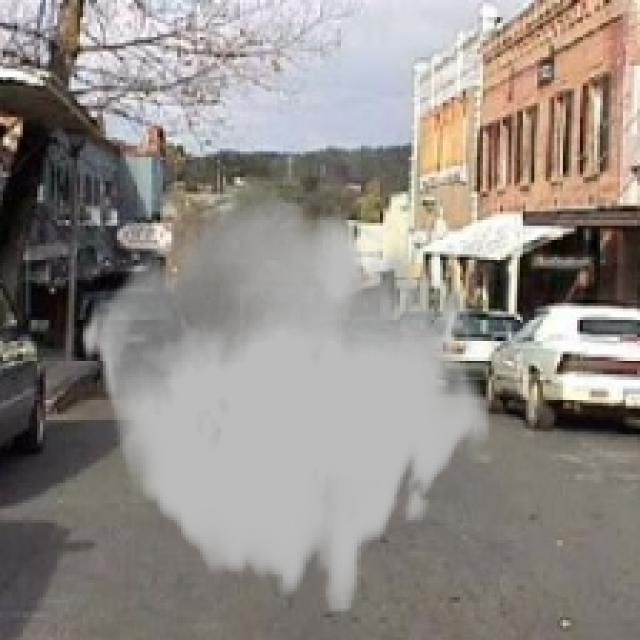Smoke: (80, 186, 492, 612)
